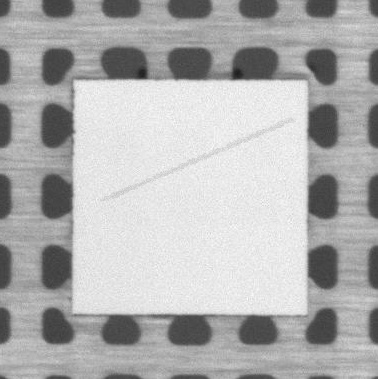DIE_CRACK: (103, 119, 292, 201)
